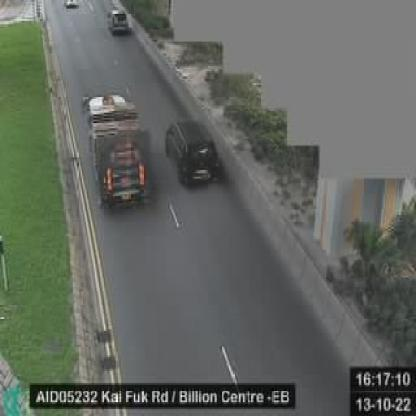Car: (166, 118, 221, 188), (107, 7, 131, 38)
Truck: (84, 90, 152, 216)
